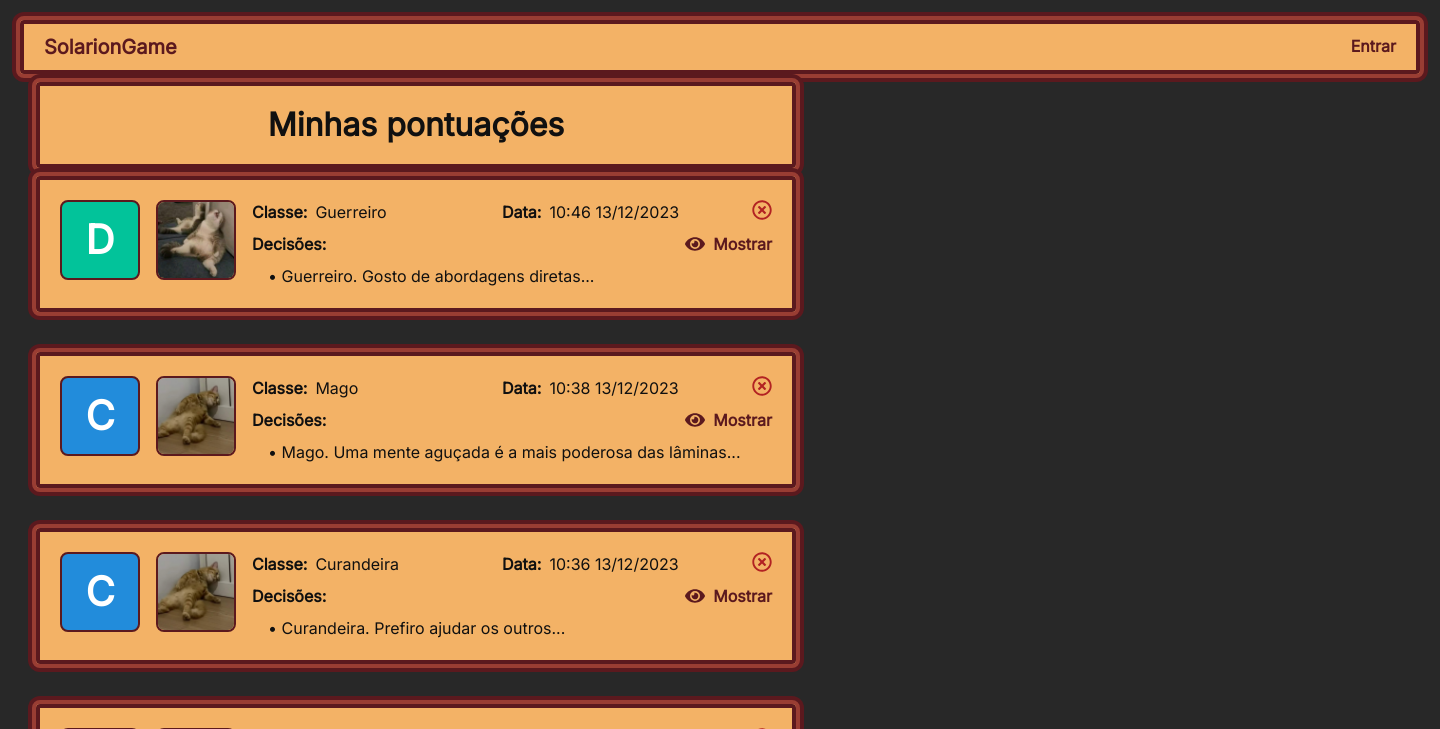
Test: MyScores Page › when delete modal is open › and when click on the main button › and when deleteScoreApi request succeeds › should remove the score from the list
The width and height of the screenshot is (1440, 729).
Click the 1st icon at {"x": 762, "y": 210}, box [752,200,772,220]
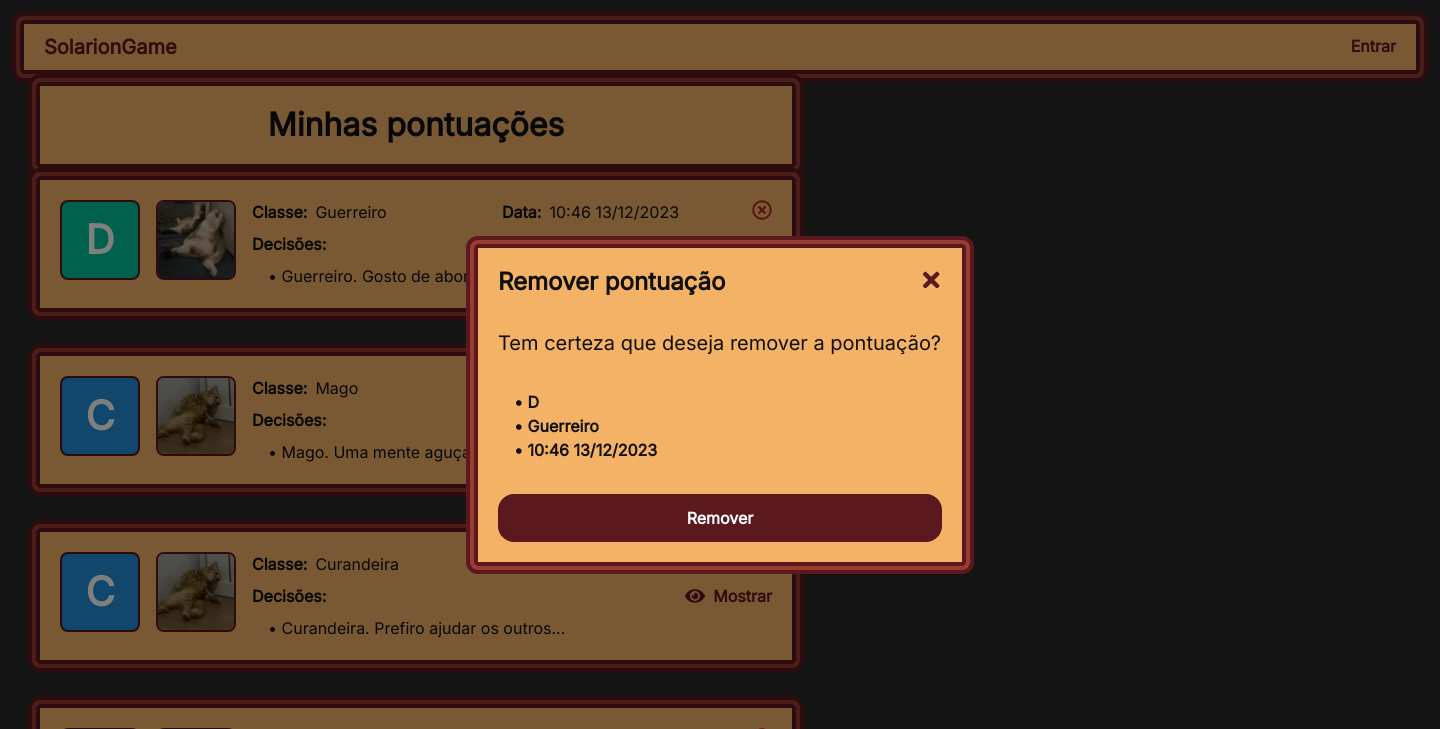
Click the button "Remover" at {"x": 720, "y": 518}, box [498,494,942,542]
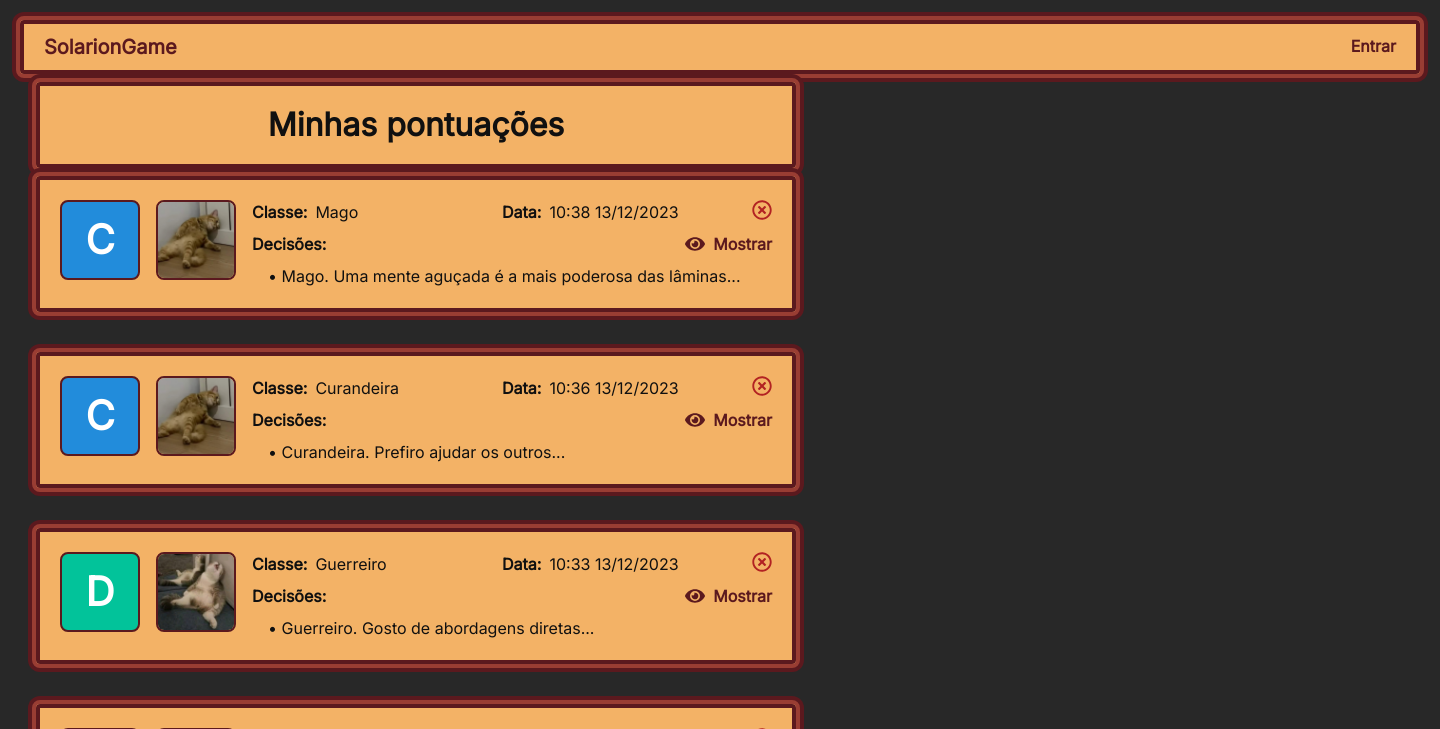
Result: the number of elements named "Cartão da pontuação" is 9
